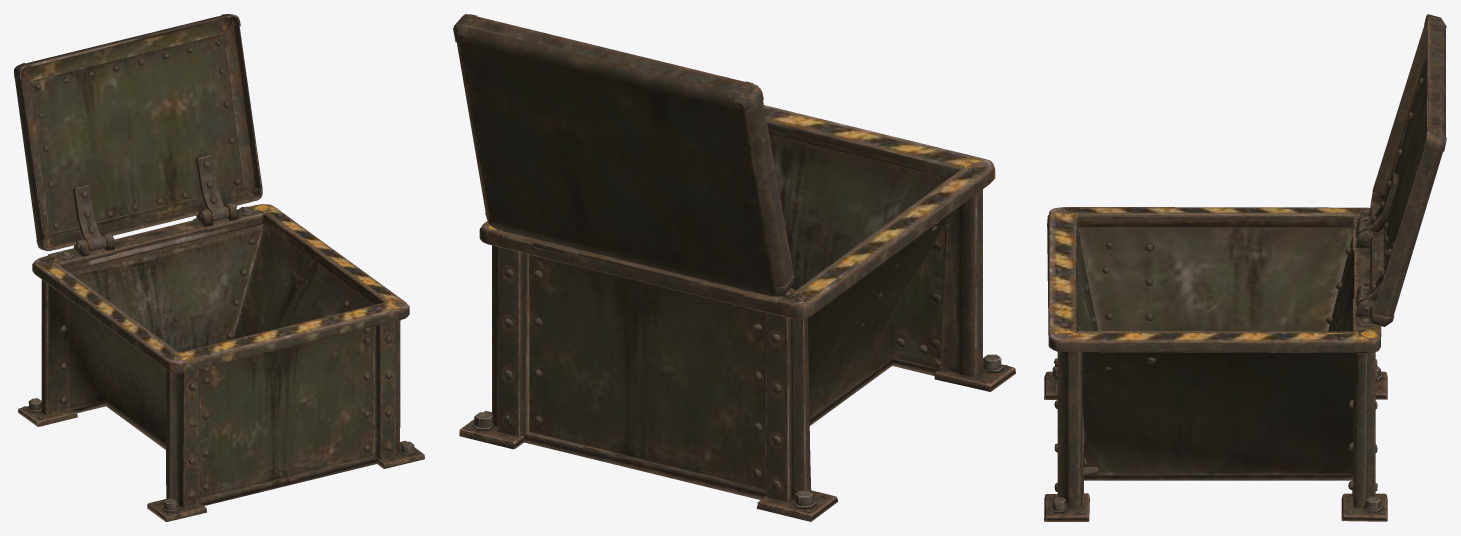
The model's file is market-corpse-chute.glb.
3 renders of one model, left to right at view 1: azimuth 30°, elevation 25°; view 2: azimuth 150°, elevation 25°; view 3: azimuth 270°, elevation 25°, orthographic. The views are drawn at different scales.
Parts seen in each view (by area): view 1: market-corpse-chute; view 2: market-corpse-chute; view 3: market-corpse-chute.
Part boxes in pixels (box(x1,y1,x2,y2)): market-corpse-chute: box(14, 14, 424, 521); market-corpse-chute: box(453, 14, 1015, 521); market-corpse-chute: box(1044, 14, 1446, 521).
Size of the model in its own units: 1 by 1.21 by 1.17.
1 material, 1 textured.
